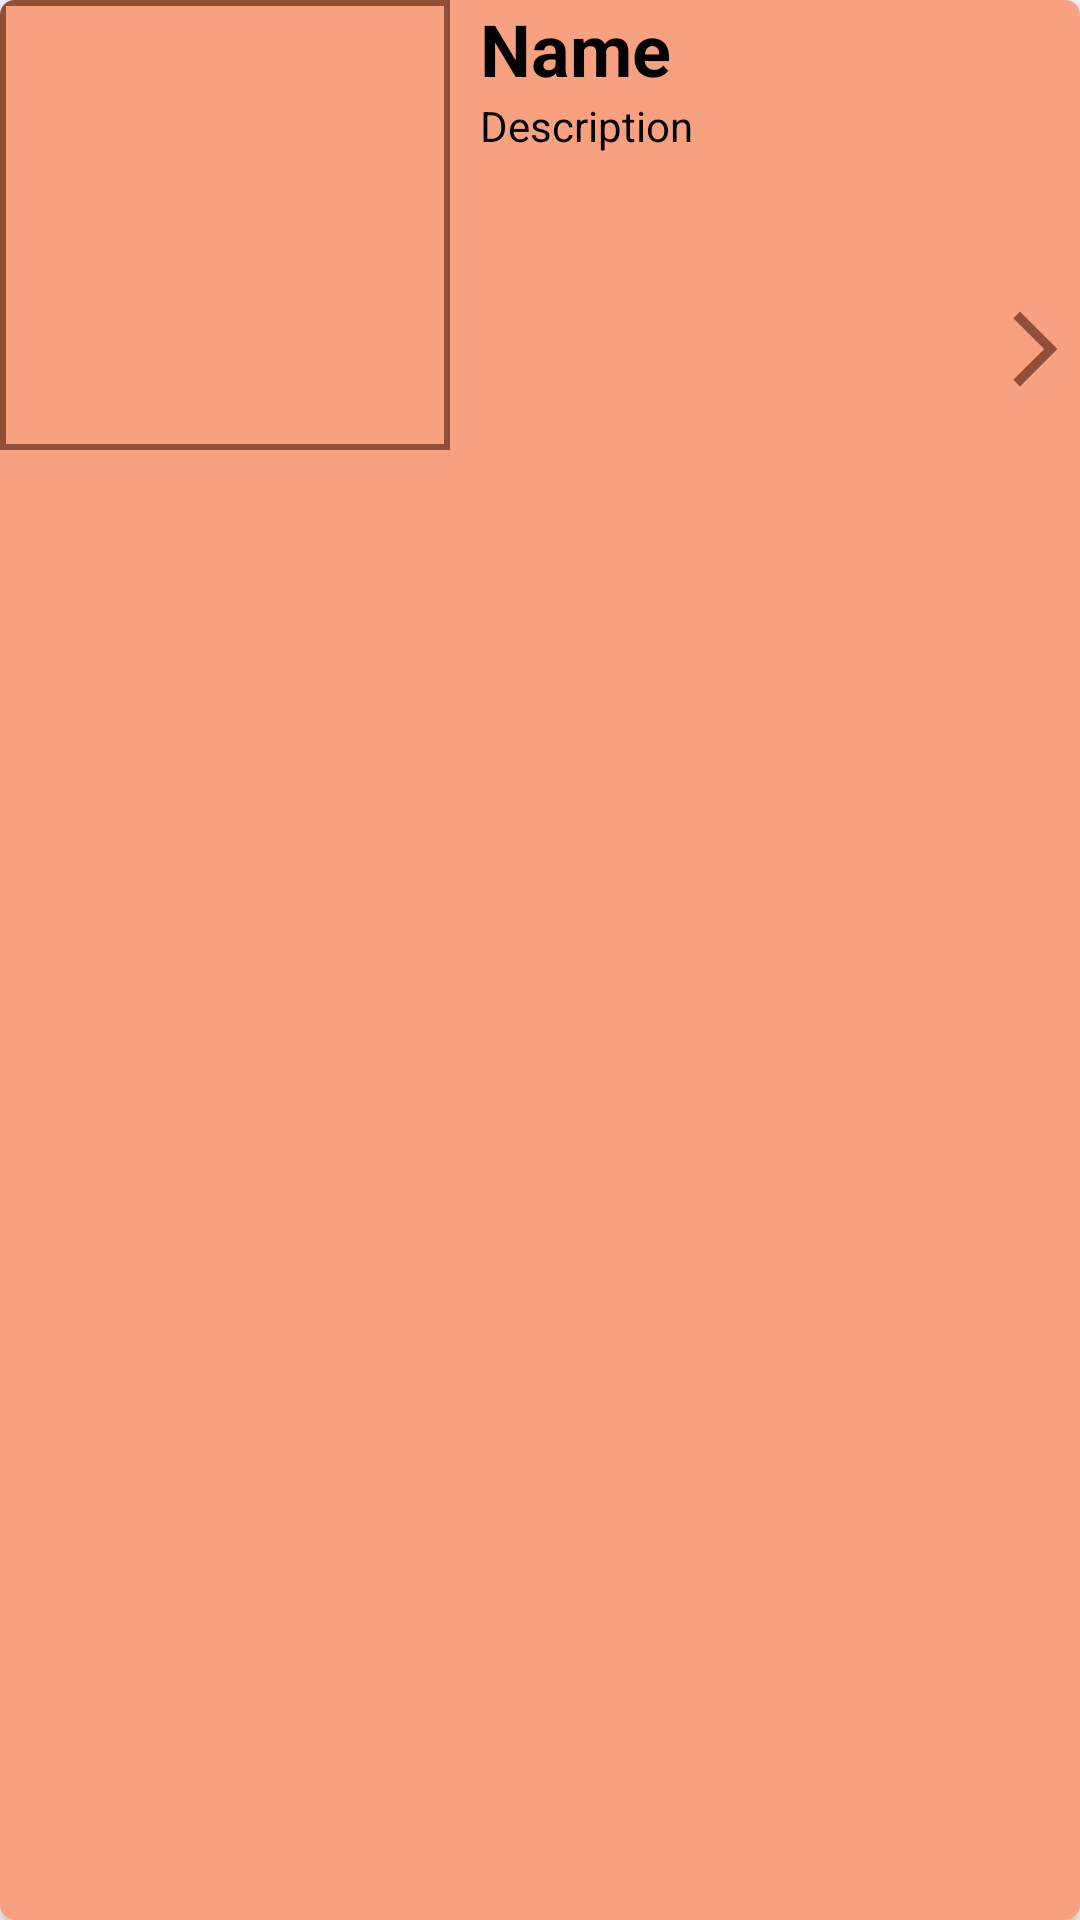

Locate icon controls on the screen. Image size 1080px×1920px, boxes as (x1, y1, x2, y2).
arrow forward: (1013, 312, 1057, 386)
